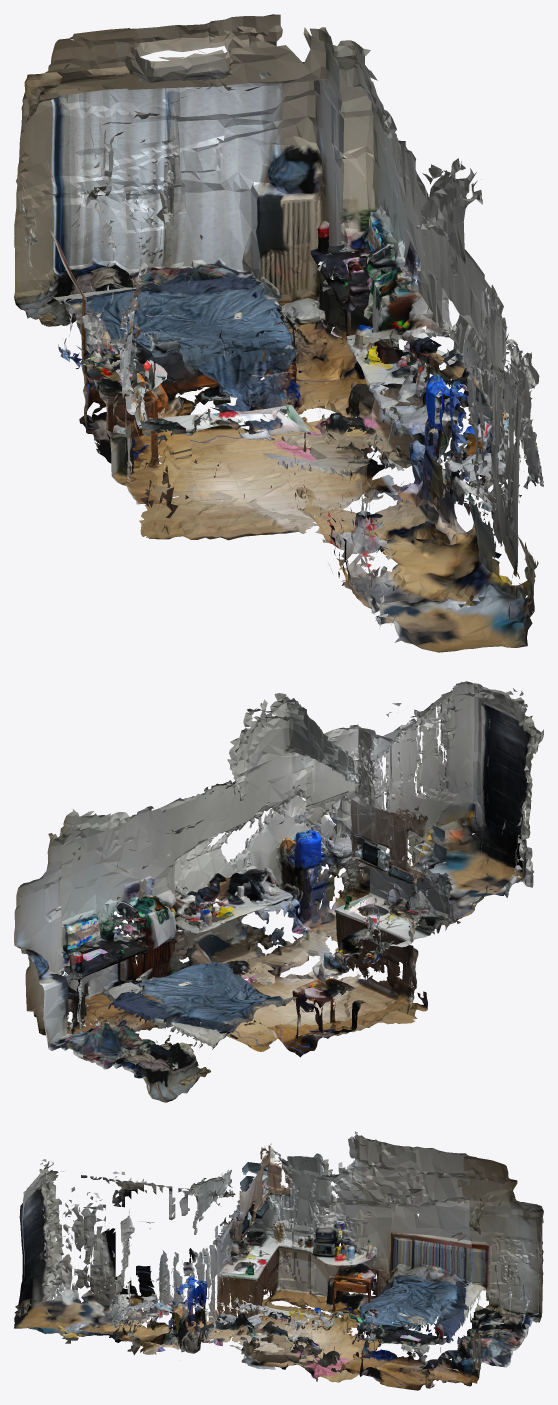
Rendered from room.glb.
3 renders of one model, top to bottom at view 1: azimuth 30°, elevation 25°; view 2: azimuth 150°, elevation 25°; view 3: azimuth 270°, elevation 25°, orthographic. The views are drawn at different scales.
Parts seen in each view (by area): view 1: node_2, node_0, node_1; view 2: node_2, node_0, node_1; view 3: node_0, node_2, node_1.
Boxes of the visible parts, x1,y1,x2,y2 form: node_2: (47, 14, 539, 519); node_0: (58, 142, 543, 652); node_1: (14, 28, 185, 326); node_2: (14, 693, 344, 1060); node_0: (303, 681, 543, 1035); node_1: (78, 865, 231, 1102); node_0: (14, 1131, 367, 1354); node_2: (148, 1135, 521, 1390); node_1: (457, 1156, 543, 1346).
Size of the model in its own units: 4.16 by 3.4 by 8.41.
Materials: 3 (3 with a texture image).
